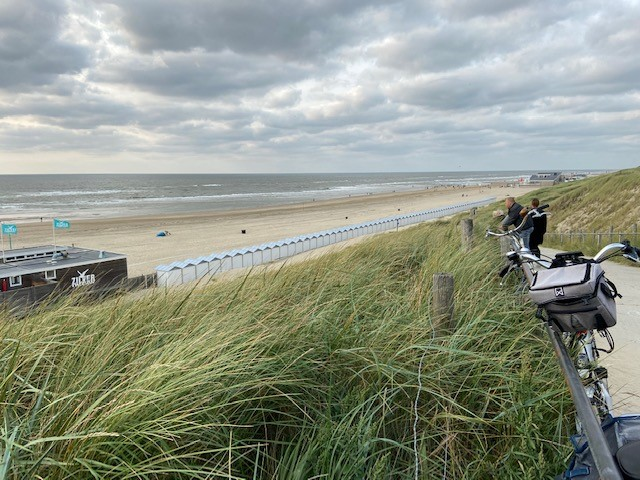zilvermeeuw: (1, 236, 136, 315)
